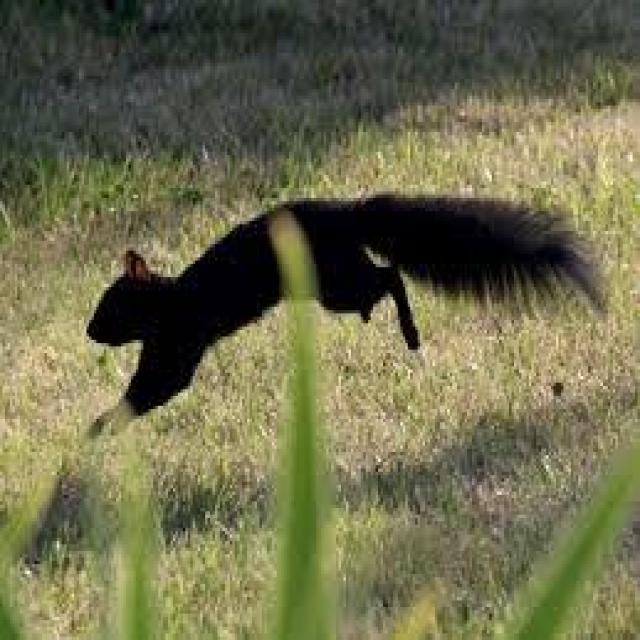license-plate: (80, 173, 614, 426)
